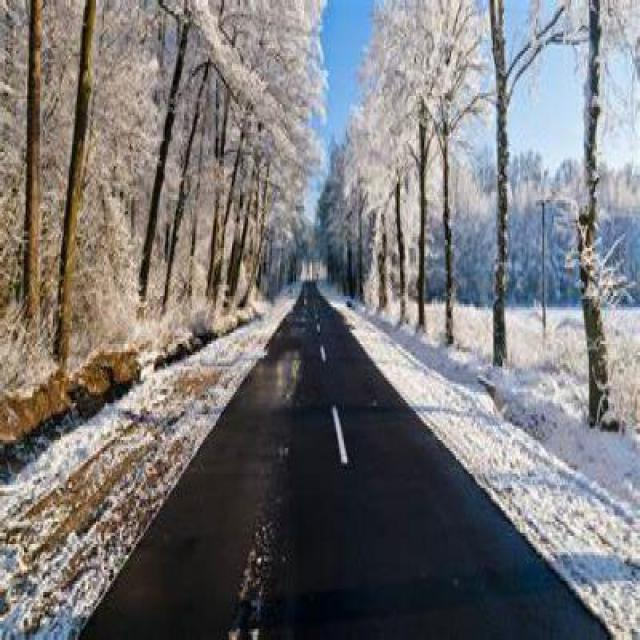clear-road: (281, 288, 608, 639)
ice-road: (84, 341, 299, 640)
